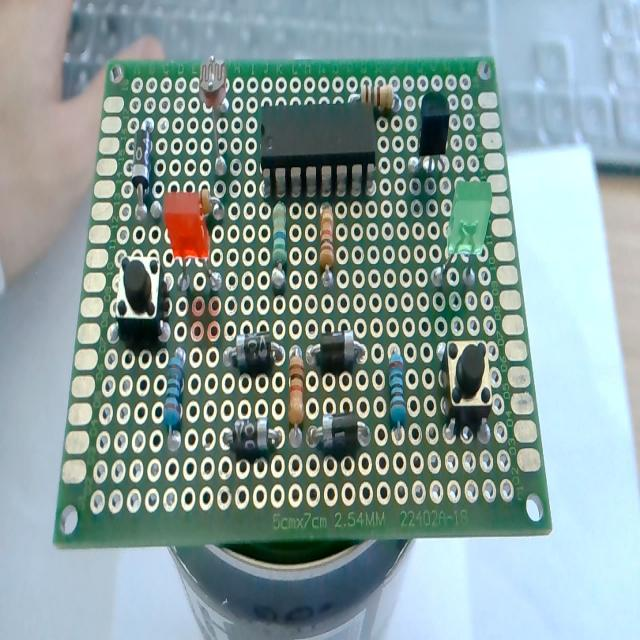IC: (259, 106, 377, 196)
cds: (199, 55, 233, 189)
diode: (124, 122, 152, 230), (223, 333, 286, 368), (224, 423, 279, 456), (312, 418, 364, 452), (309, 335, 360, 365)
led: (162, 195, 220, 292), (441, 180, 493, 288)
resistor: (161, 353, 191, 448), (284, 350, 308, 446), (388, 348, 410, 442), (268, 202, 290, 286), (319, 202, 334, 284)
switch: (440, 337, 492, 433), (113, 259, 163, 343)
transistor: (416, 94, 454, 180)
